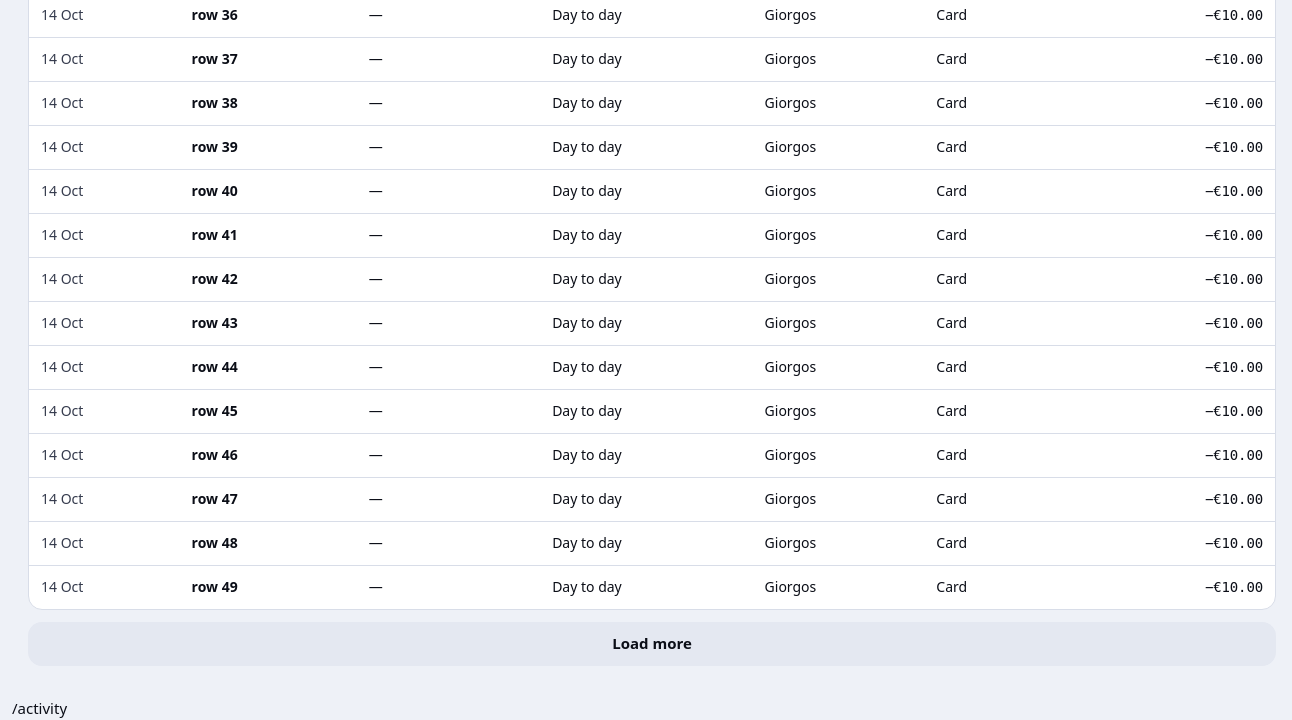
Scenario: Activity feed › shows a row repeated on page 2 once
(page scrolled)
Click the button "Load more" at x=652, y=644, box [28, 622, 1276, 666]
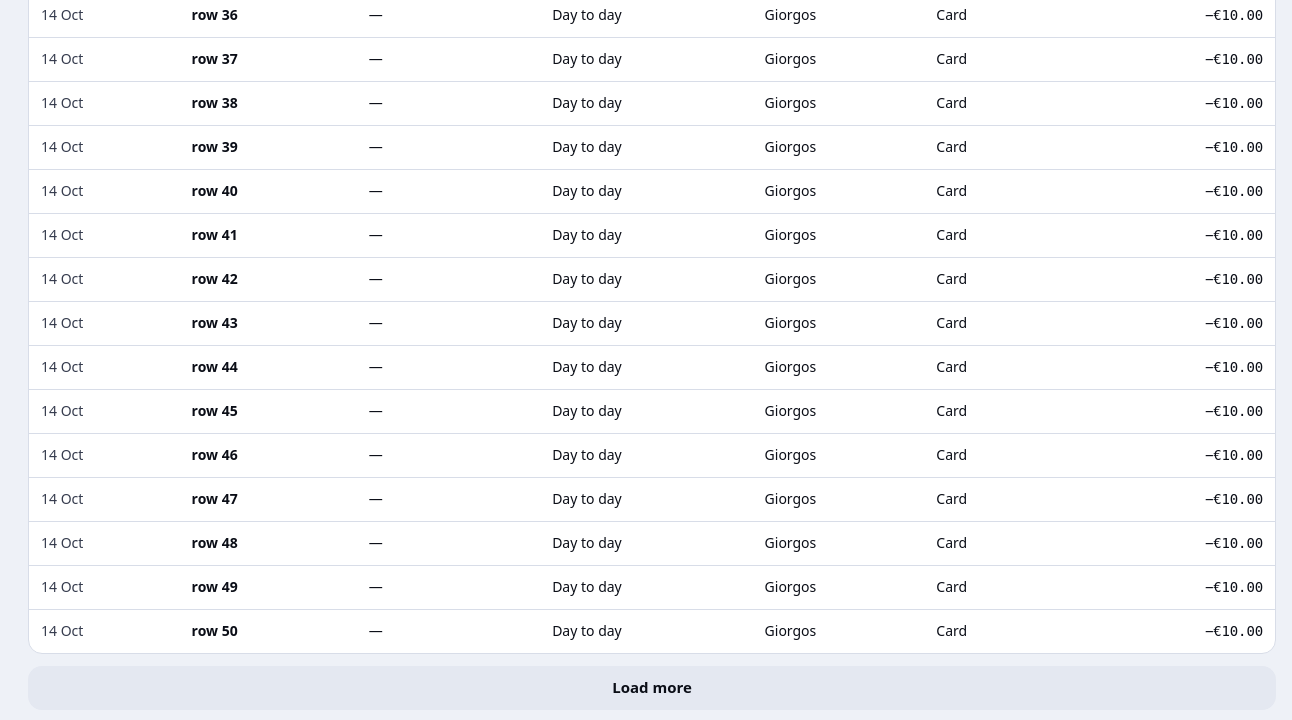
expect the text "row 50" is shown: met, box [192, 621, 238, 640]
expect the text "row 49" is shown once: met, box [192, 577, 238, 596]
